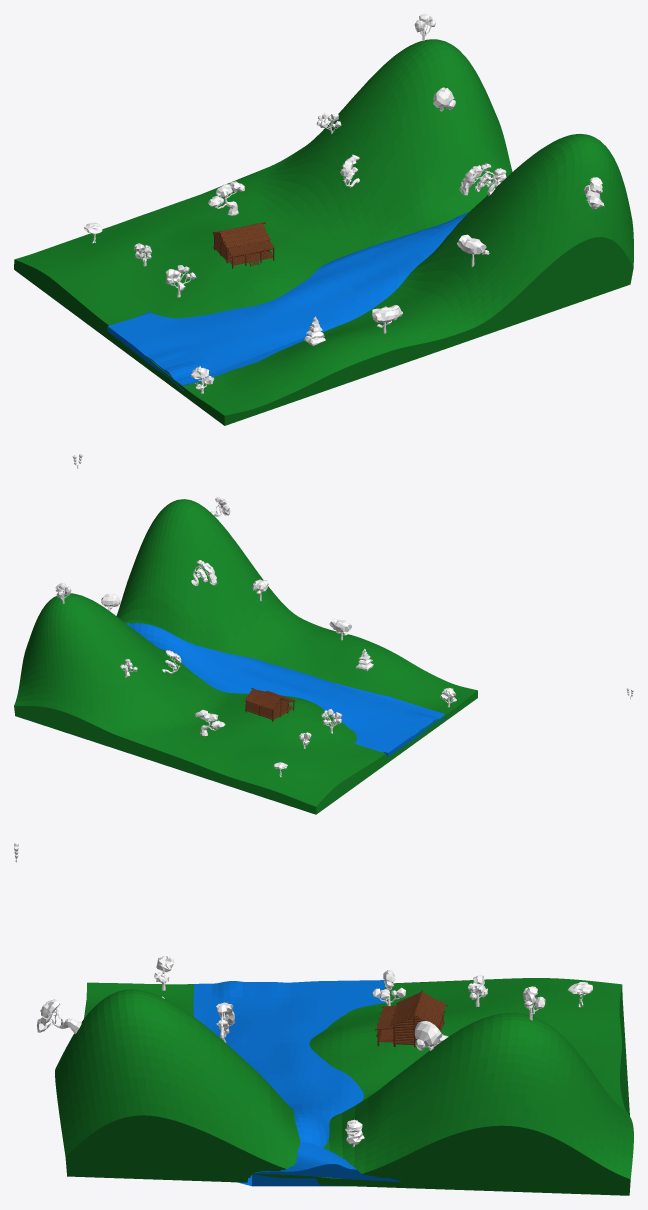
The model's file is gallery.glb.
The picture shows the model from 3 angles, top to bottom: view 1: azimuth 30°, elevation 25°; view 2: azimuth 150°, elevation 25°; view 3: azimuth 270°, elevation 25°; orthographic projection. The views are drawn at different scales.
Parts seen in each view (by area): view 1: Plane, Plane.001, Cabana, 62, 59; view 2: Plane, Plane.001, Cabana; view 3: Plane, Plane.001, Cabana, 60, 135, 67.
Part boxes in pixels (x1,y1,x2,y2): Plane: [14, 39, 633, 425]; Plane.001: [107, 211, 469, 390]; Cabana: [212, 222, 274, 268]; 62: [459, 163, 496, 196]; 59: [208, 181, 244, 215]; Plane: [14, 499, 477, 814]; Plane.001: [125, 622, 445, 757]; Cabana: [244, 688, 295, 721]; Plane: [55, 978, 633, 1195]; Plane.001: [193, 980, 401, 1186]; Cabana: [375, 989, 447, 1047]; 60: [37, 999, 81, 1033]; 135: [414, 1021, 441, 1050]; 67: [372, 970, 405, 1005].
Size of what is drawn, in the model's own units: 316 by 95.25 by 224.
